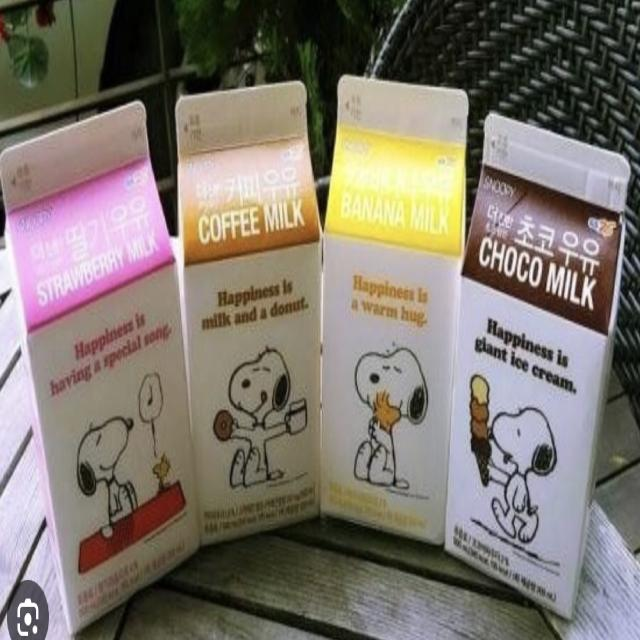biodegradable: (0, 95, 212, 636), (444, 84, 634, 623), (301, 35, 487, 571), (168, 56, 337, 558)
